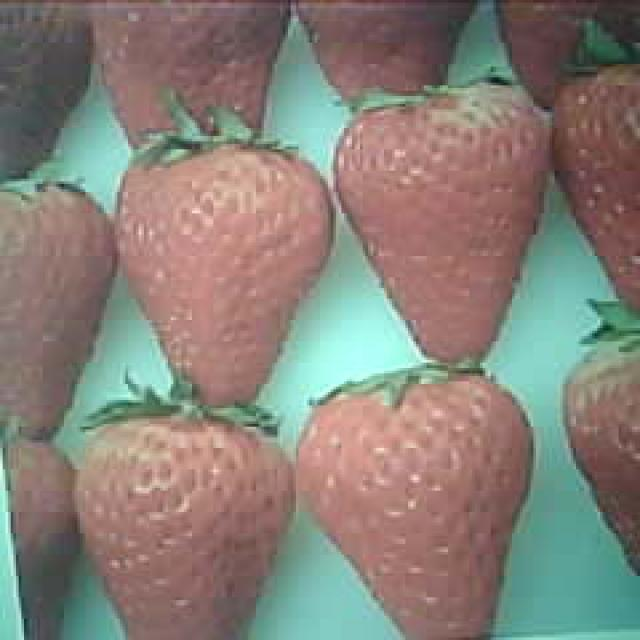ripe: (296, 375, 529, 640), (334, 91, 553, 372), (113, 146, 334, 412), (81, 417, 293, 640)
